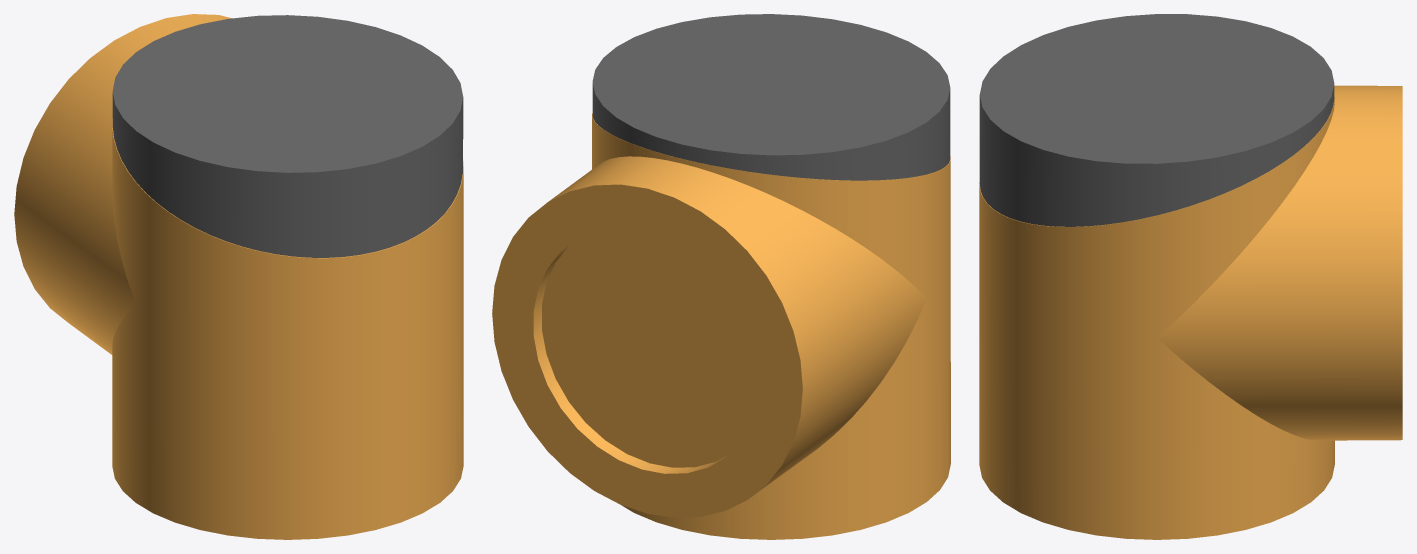
The picture shows the model from 3 angles, left to right: view 1: azimuth 30°, elevation 25°; view 2: azimuth 150°, elevation 25°; view 3: azimuth 270°, elevation 25°; orthographic projection. The views are drawn at different scales.
Visible parts, largest first — view 1: FBXASC195FBXASC137FBXASC194FBXASC190FBXASC194FBXASC179FBXASC; view 2: FBXASC195FBXASC137FBXASC194FBXASC190FBXASC194FBXASC179FBXASC; view 3: FBXASC195FBXASC137FBXASC194FBXASC190FBXASC194FBXASC179FBXASC.
Part boxes in pixels (bbox=[...]): FBXASC195FBXASC137FBXASC194FBXASC190FBXASC194FBXASC179FBXASC: bbox=[14, 14, 463, 539]; FBXASC195FBXASC137FBXASC194FBXASC190FBXASC194FBXASC179FBXASC: bbox=[492, 14, 950, 539]; FBXASC195FBXASC137FBXASC194FBXASC190FBXASC194FBXASC179FBXASC: bbox=[979, 14, 1402, 539].
Bounding box in the file's own units: 0.152 × 0.181 × 0.18.
